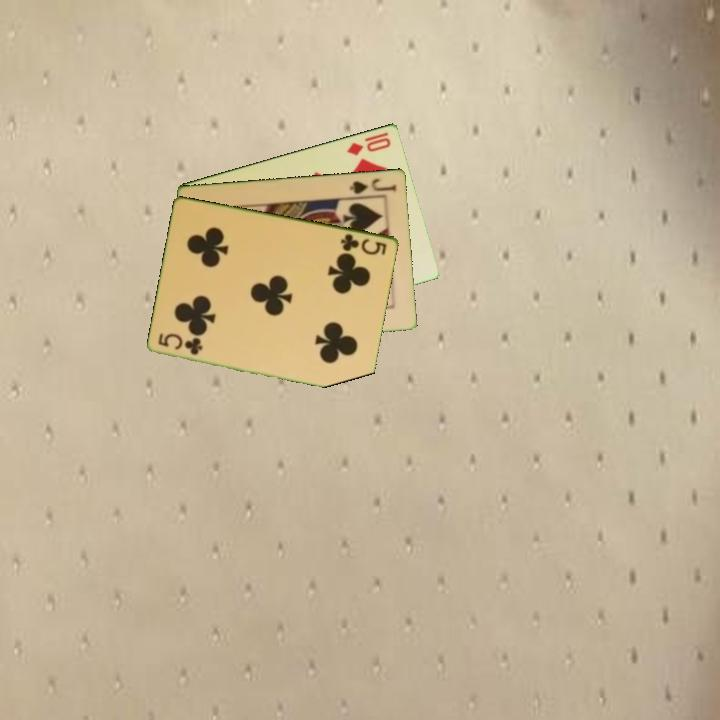10d: (343, 134, 394, 158)
5c: (337, 230, 390, 258), (155, 330, 206, 358)
Js: (347, 175, 399, 197)
